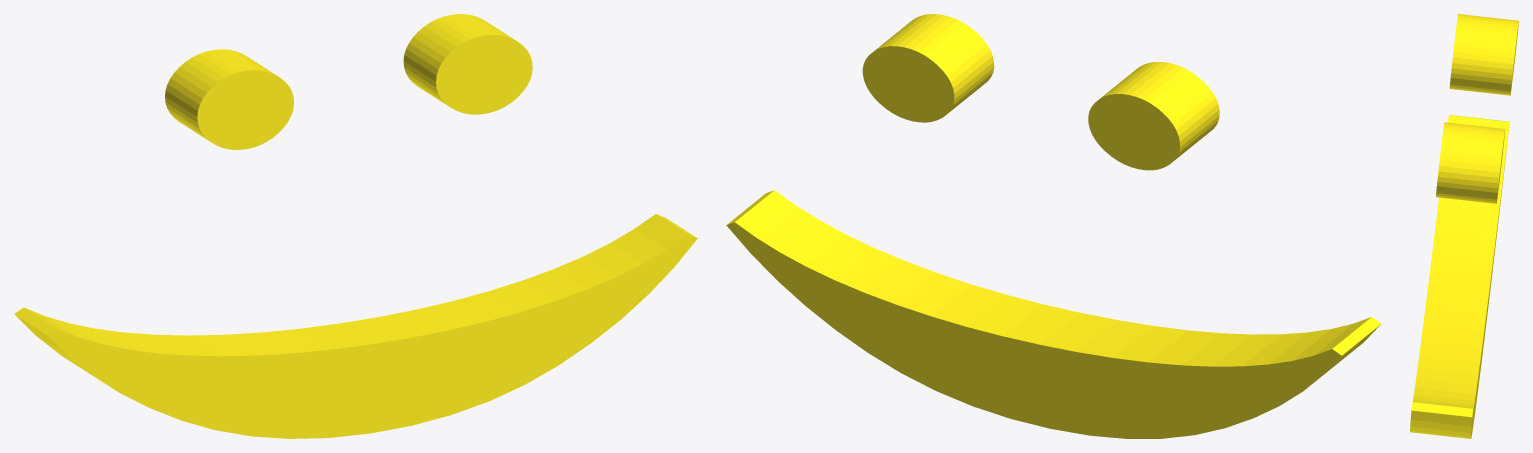
File: text-3d-texture2.glb
3 views of the same model, side by side, from view 1: azimuth 30°, elevation 25°; view 2: azimuth 150°, elevation 25°; view 3: azimuth 270°, elevation 25° (orthographic). The views are drawn at different scales.
Visible parts, largest first — view 1: 3D Text - ), 3D Text - :; view 2: 3D Text - ), 3D Text - :; view 3: 3D Text - ), 3D Text - :.
Boxes of the visible parts, x1,y1,x2,y2 form: 3D Text - ): (14, 214, 697, 438); 3D Text - :: (165, 14, 532, 149); 3D Text - ): (726, 190, 1381, 438); 3D Text - :: (862, 14, 1219, 170); 3D Text - ): (1410, 115, 1509, 438); 3D Text - :: (1436, 14, 1518, 203).
Size of the model in its own units: 0.00626 by 0.00358 by 0.0011.
